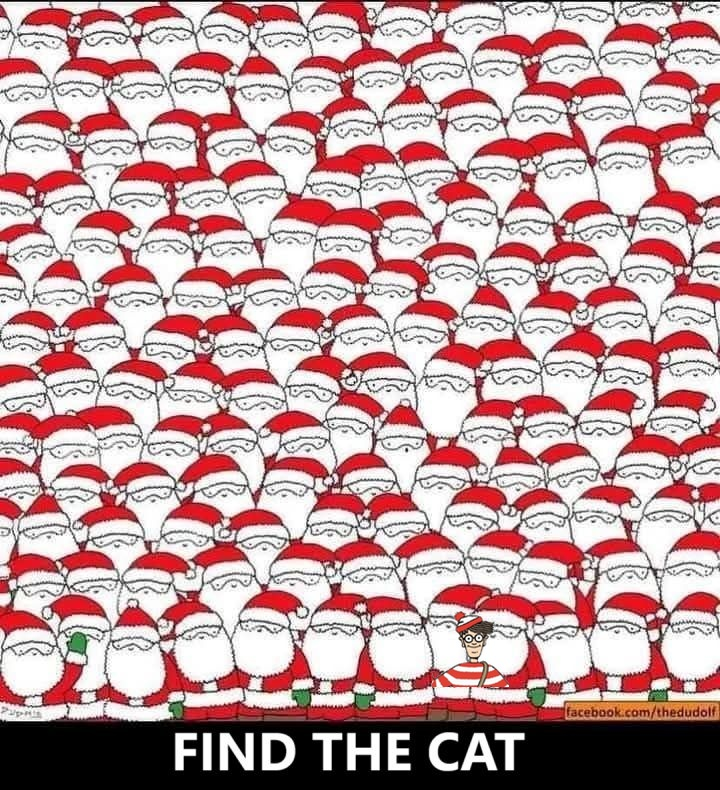waldo: (432, 610, 509, 687)
